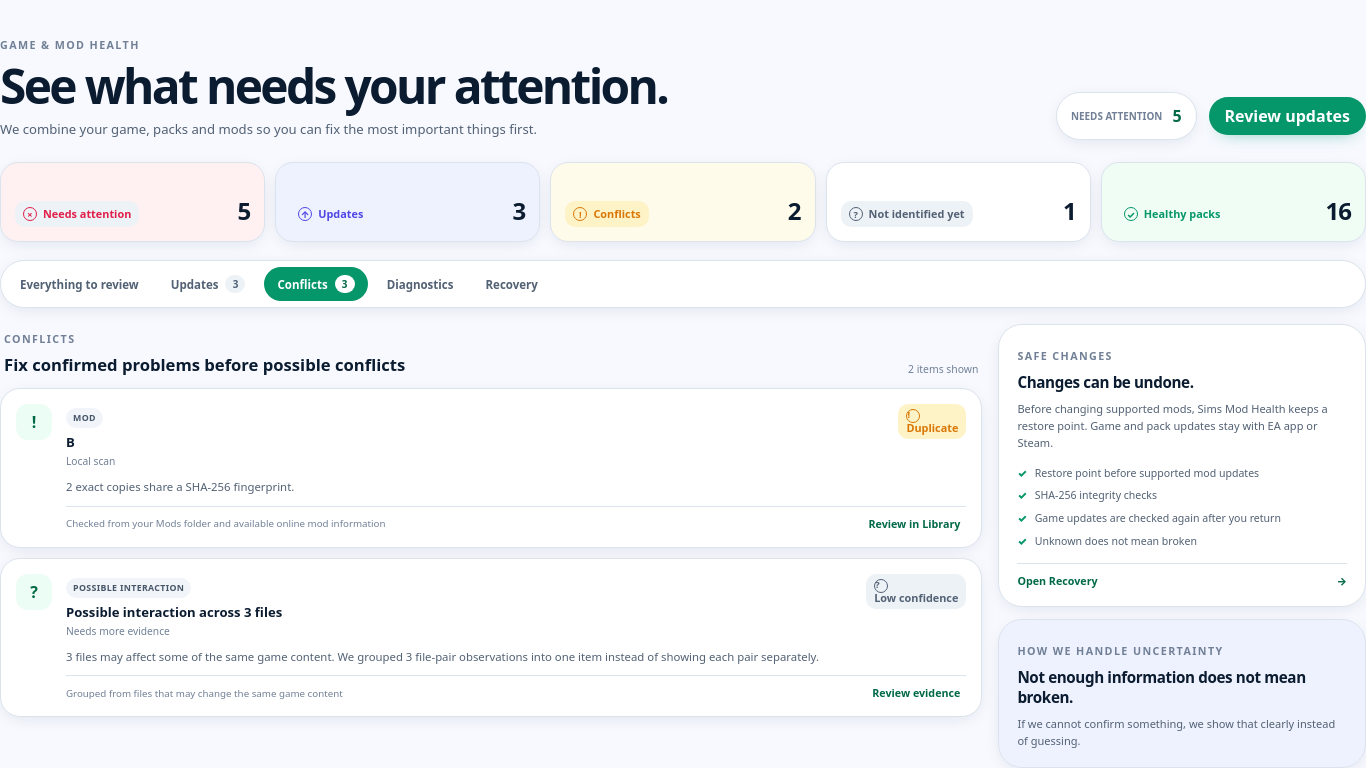
Test: HealthPage › groups possible file interactions and exposes sampled evidence without adding them to Needs attention
(page scrolled)
Expected: the text "Possible interaction across 3 files" is shown, left=66, top=603, right=282, bottom=621
Expected: the text "Needs more evidence" is shown, left=66, top=624, right=170, bottom=638
Click the button "Review evidence" at (916, 693), box left=866, top=685, right=966, bottom=701
(page scrolled)
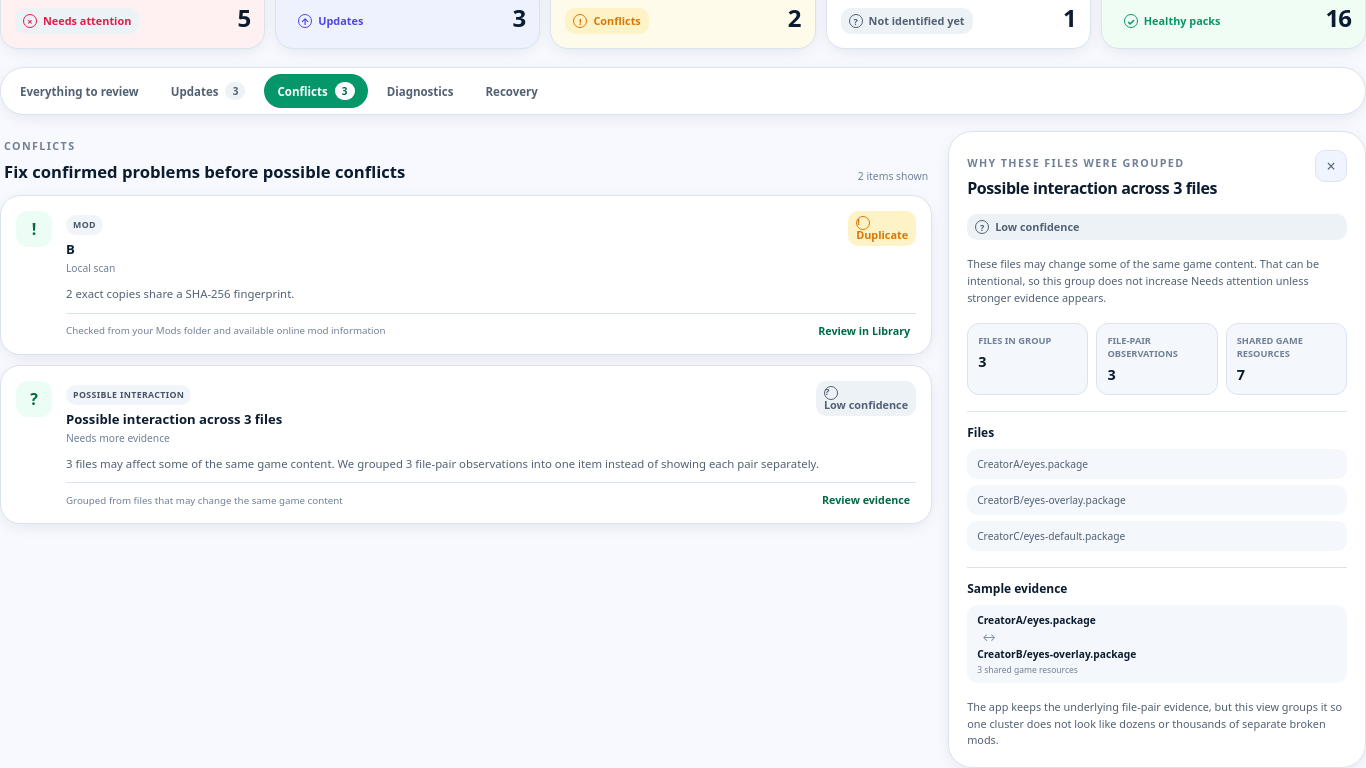
Expected: the text "File-pair observations" is shown, left=1107, top=334, right=1178, bottom=360
Expected: the list item "CreatorA/eyes.package" is shown, left=967, top=449, right=1347, bottom=479
Expected: the list item "CreatorB/eyes-overlay.package" is shown, left=967, top=485, right=1347, bottom=515
